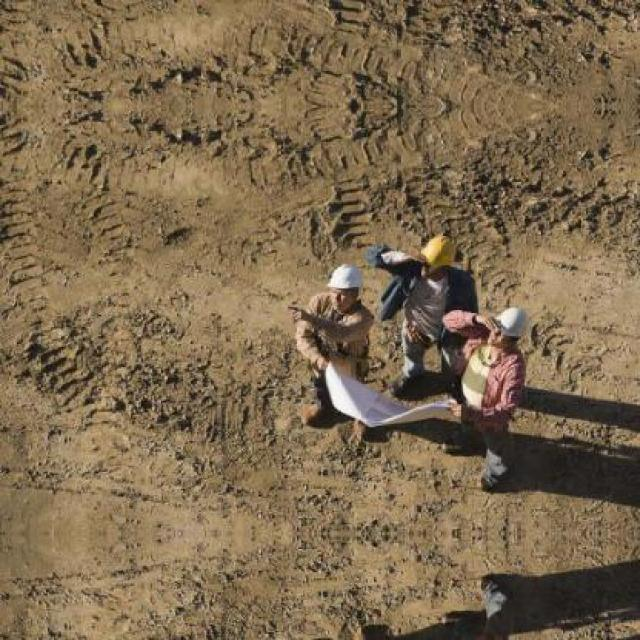helmet: (484, 305, 528, 347), (418, 231, 456, 273), (327, 262, 362, 307)
